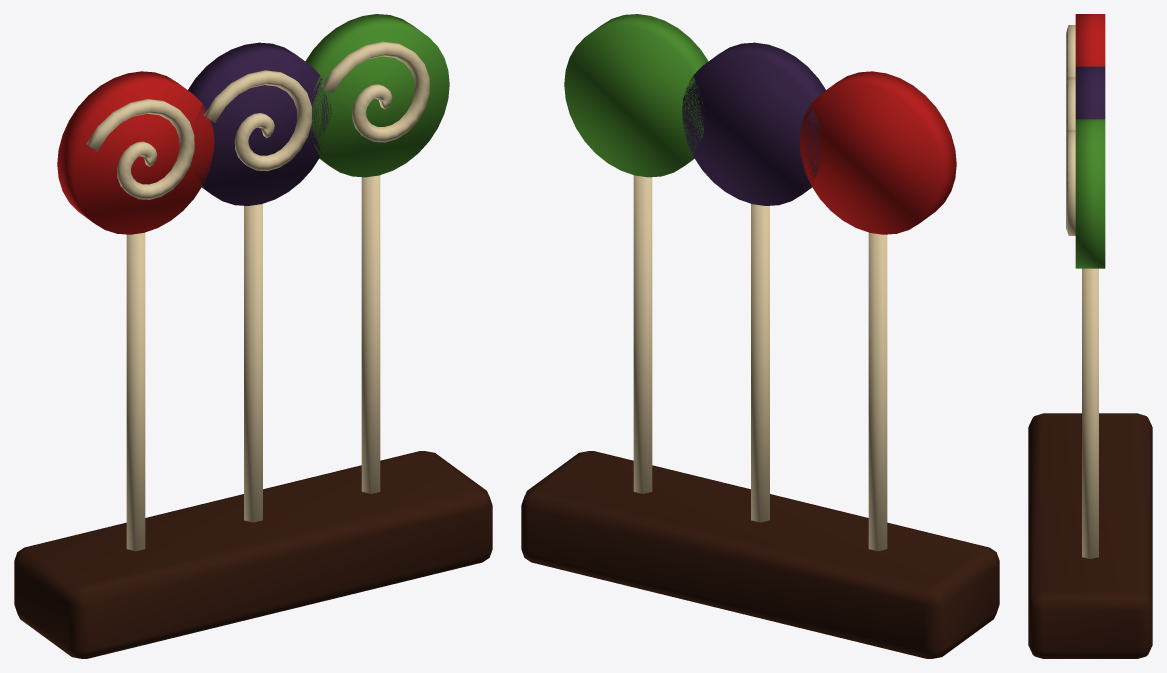
File: lollipop_set.obj
3 views of the same model, side by side, from view 1: azimuth 30°, elevation 25°; view 2: azimuth 150°, elevation 25°; view 3: azimuth 270°, elevation 25° (orthographic). The views are drawn at different scales.
Parts seen in each view (by area): view 1: LH_lollipop_set; view 2: LH_lollipop_set; view 3: LH_lollipop_set.
Part boxes in pixels (x1=…): LH_lollipop_set: x1=14, y1=14, x2=492, y2=658; LH_lollipop_set: x1=521, y1=14, x2=999, y2=658; LH_lollipop_set: x1=1028, y1=14, x2=1152, y2=658.
Size of the model in its own units: 0.18 by 0.22 by 0.05.
